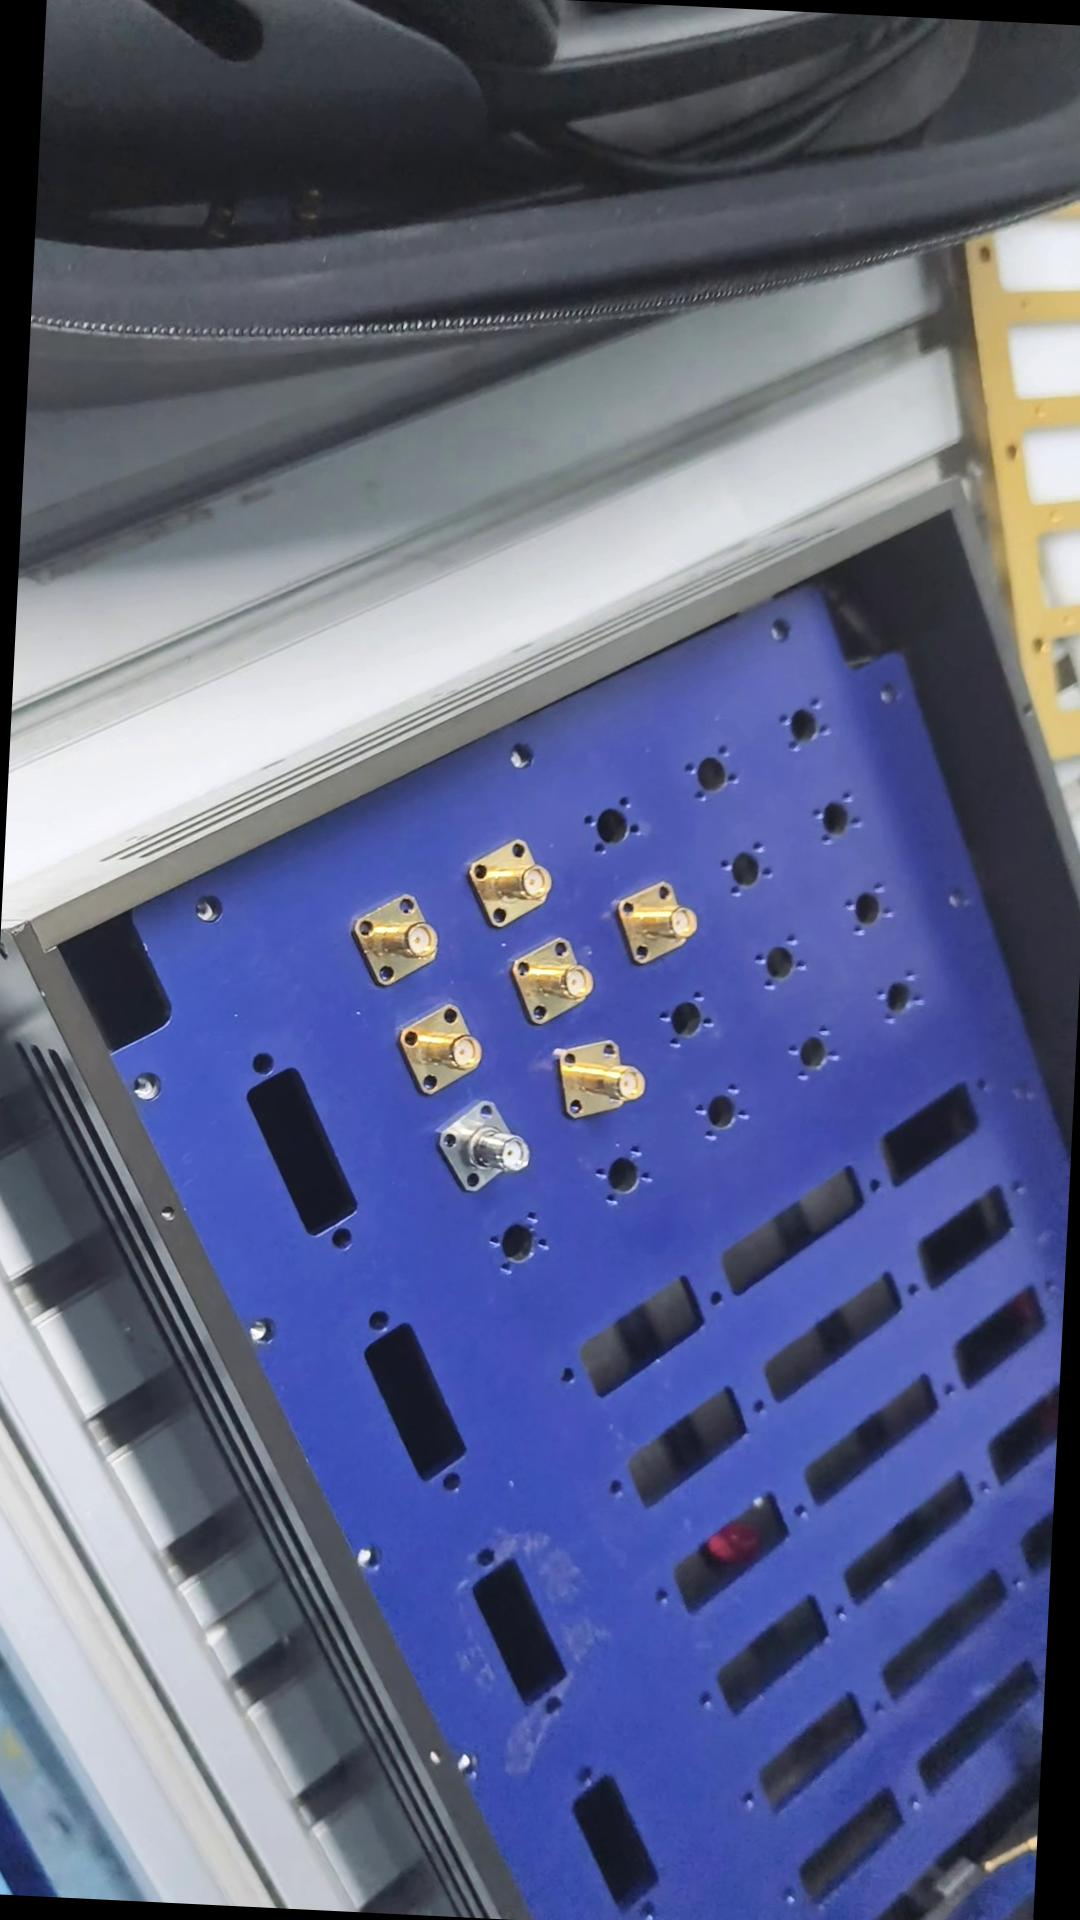SMA: (429, 1091, 535, 1197), (342, 882, 444, 989), (392, 994, 496, 1097), (505, 934, 604, 1031), (468, 833, 560, 926), (612, 877, 703, 971), (553, 1038, 644, 1121)
